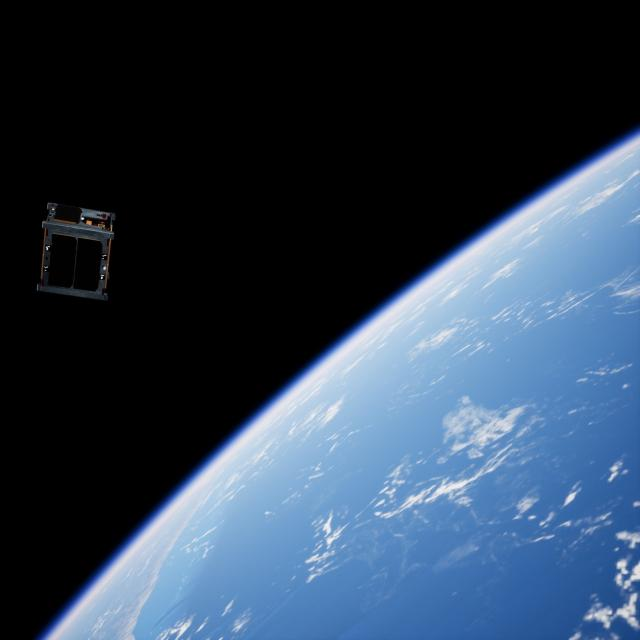satellite: (38, 194, 121, 306)
